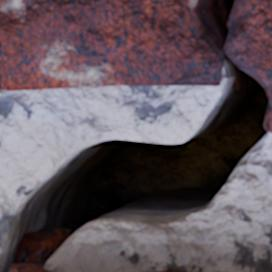brick: (11, 265, 47, 271), (163, 269, 180, 271)
broken_brick: (0, 0, 220, 91), (225, 0, 271, 134)
crack: (0, 0, 269, 271)
